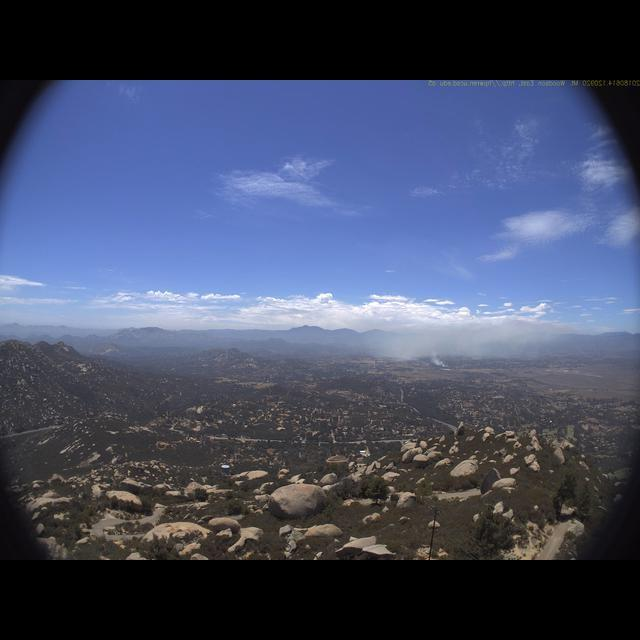Smoke: (367, 317, 549, 365)
